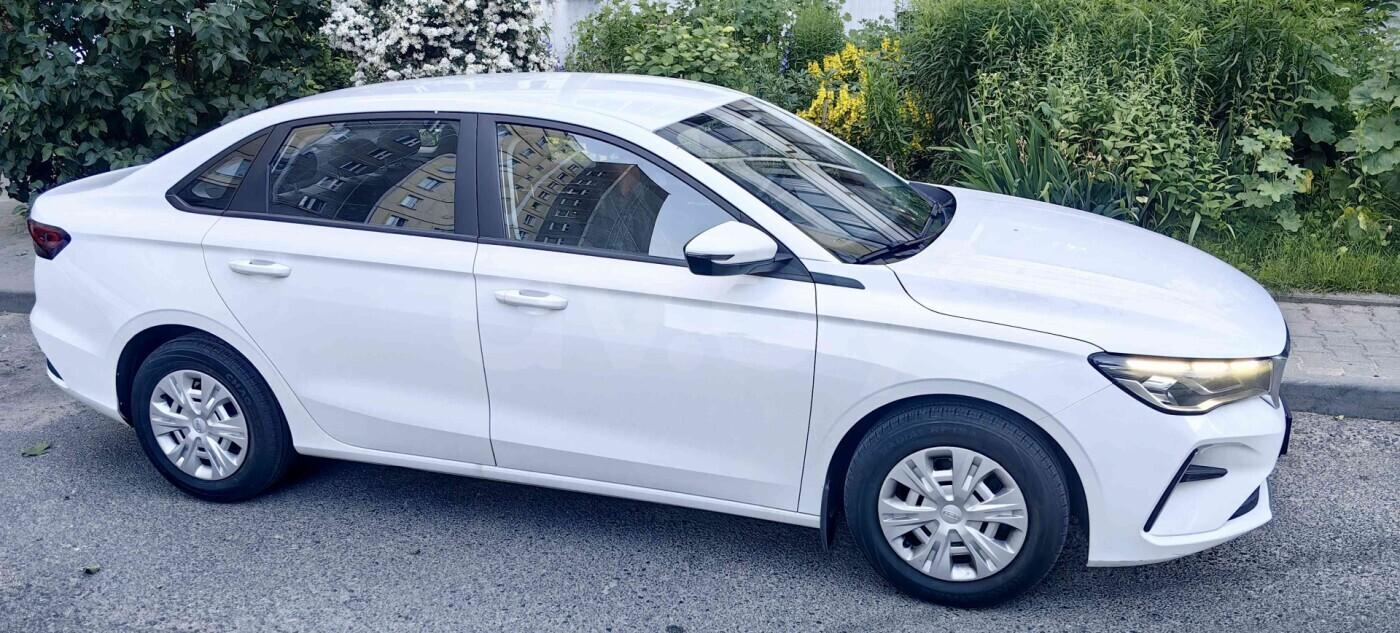Emgrand_2021: (25, 66, 1294, 604)
